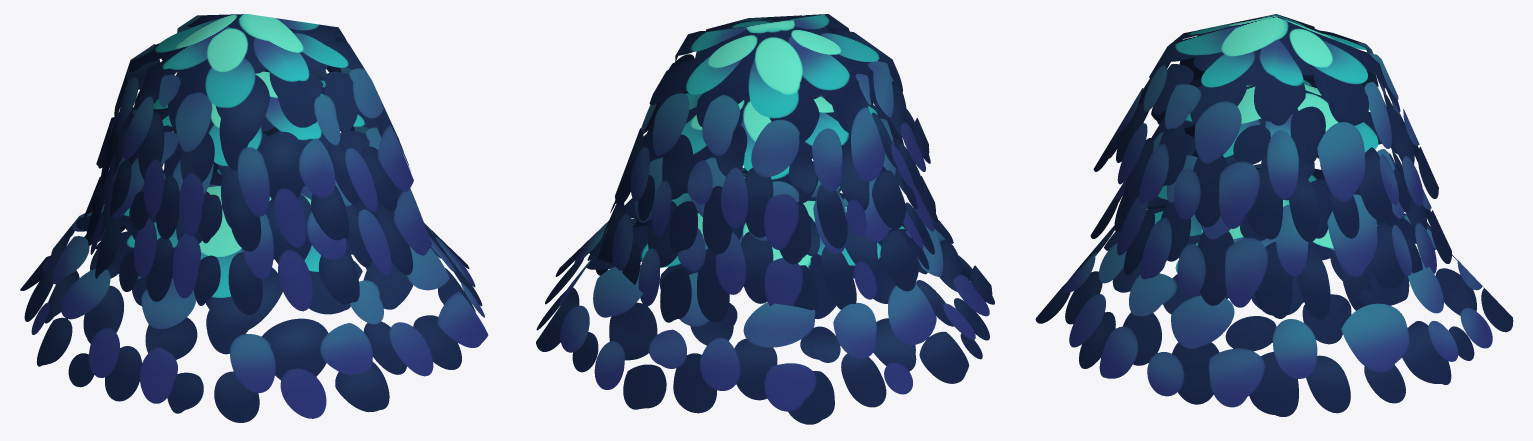
The model's file is BushBlue.fbx.
The picture shows the model from 3 angles, left to right: view 1: azimuth 30°, elevation 25°; view 2: azimuth 150°, elevation 25°; view 3: azimuth 270°, elevation 25°; orthographic projection. The views are drawn at different scales.
Parts seen in each view (by area): view 1: BlueBush; view 2: BlueBush; view 3: BlueBush.
Part boxes in pixels (<box>): BlueBush: <box>20,14,488,422</box>; BlueBush: <box>536,14,994,424</box>; BlueBush: <box>1035,14,1513,416</box>.
Bounding box in the file's own units: 363 × 248 × 363.
